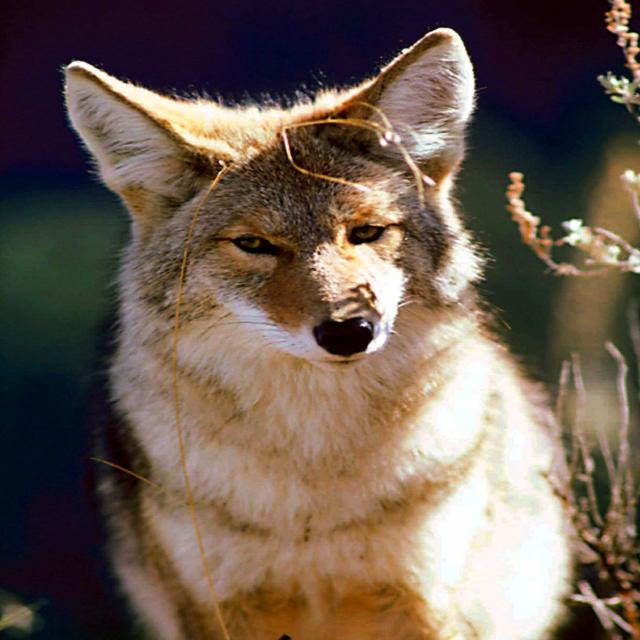coyote: (65, 28, 572, 640)
